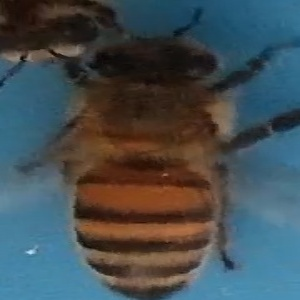bee: (53, 35, 295, 300)
